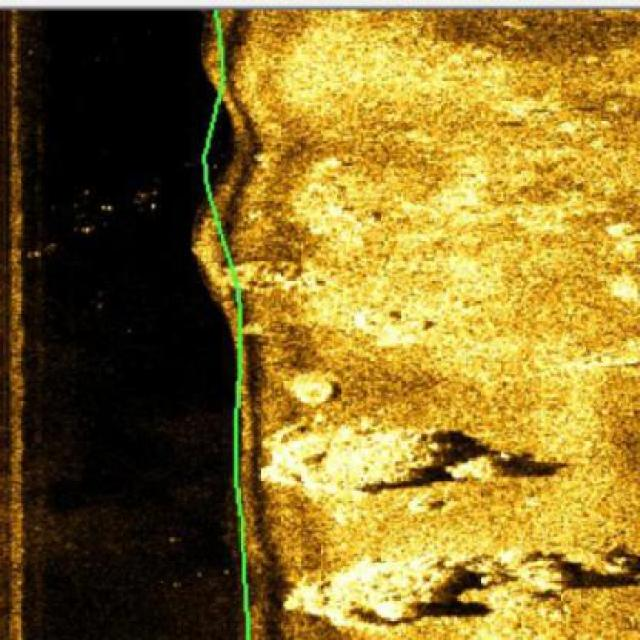bedrock group: (257, 422, 631, 620)
